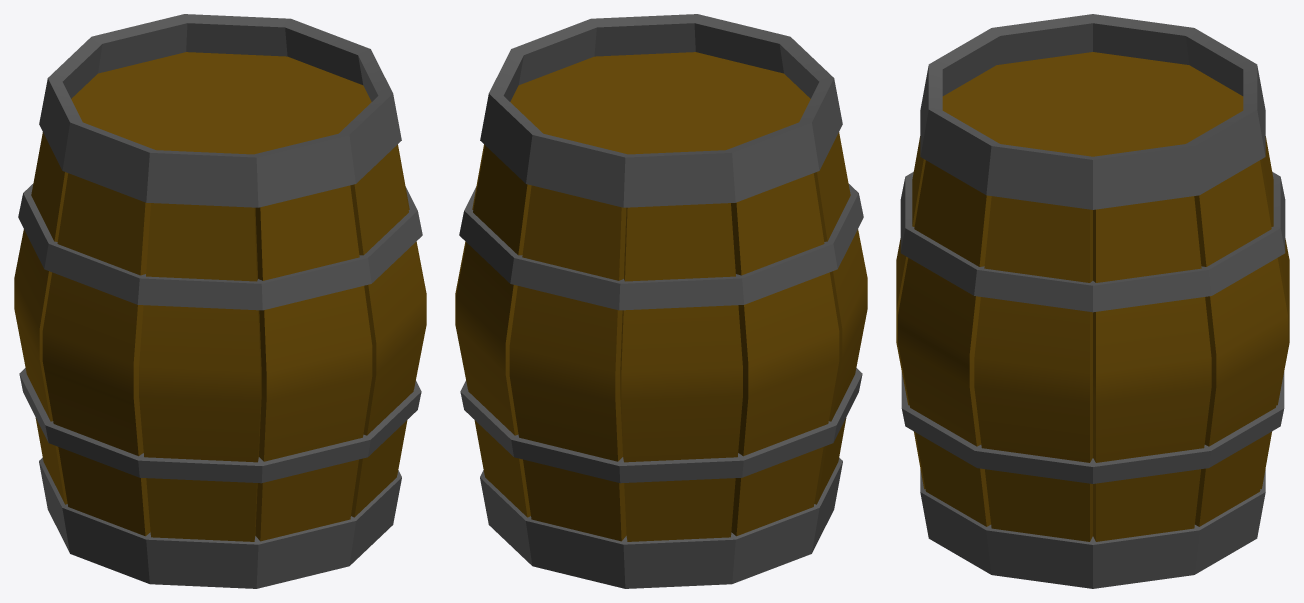
Rendered from barrel.fbx.
The picture shows the model from 3 angles, left to right: view 1: azimuth 30°, elevation 25°; view 2: azimuth 150°, elevation 25°; view 3: azimuth 270°, elevation 25°; orthographic projection.
Visible parts, largest first — view 1: pCylinder13; view 2: pCylinder13; view 3: pCylinder13.
Part boxes in pixels (left/top/right/bottom): pCylinder13: left=14, top=14, right=426, bottom=588; pCylinder13: left=455, top=14, right=867, bottom=588; pCylinder13: left=896, top=14, right=1289, bottom=588.
Size of the model in its own units: 558 by 641 by 533.
